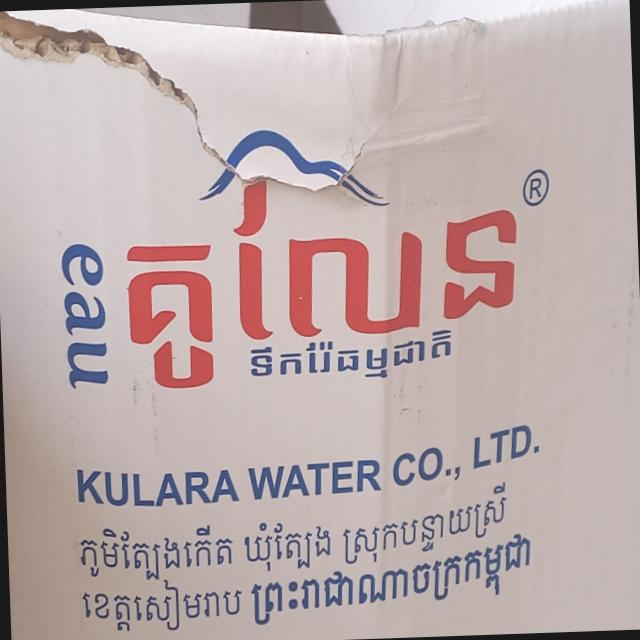1: (79, 525, 537, 633)
2: (75, 472, 508, 579)
Yolov11_80vkh: (119, 169, 520, 405), (245, 322, 462, 383)
